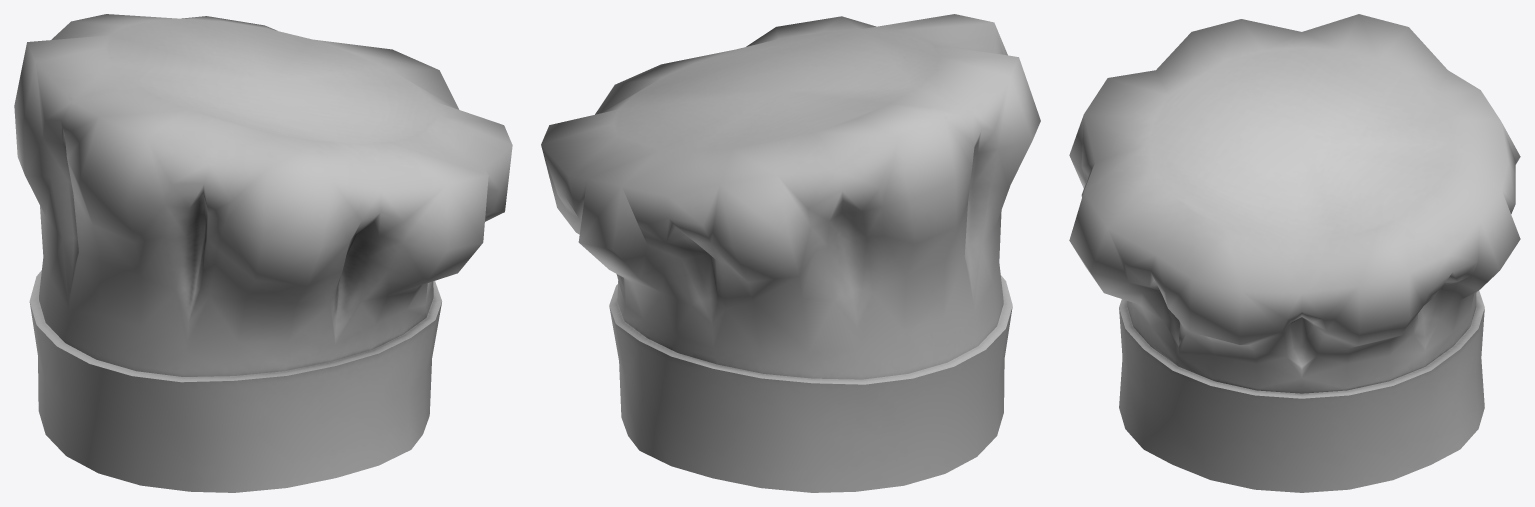
File: ChefHat.FBX
The picture shows the model from 3 angles, left to right: view 1: azimuth 30°, elevation 25°; view 2: azimuth 150°, elevation 25°; view 3: azimuth 270°, elevation 25°; orthographic projection. The views are drawn at different scales.
Parts seen in each view (by area): view 1: ChefHat; view 2: ChefHat; view 3: ChefHat.
Part boxes in pixels (box(x1,y1,x2,y2)): ChefHat: box(14, 14, 512, 492); ChefHat: box(541, 14, 1040, 492); ChefHat: box(1069, 14, 1520, 492).
Size of the model in its own units: 44.07 by 36.63 by 45.03.
Materials: 1 (1 with a texture image).
